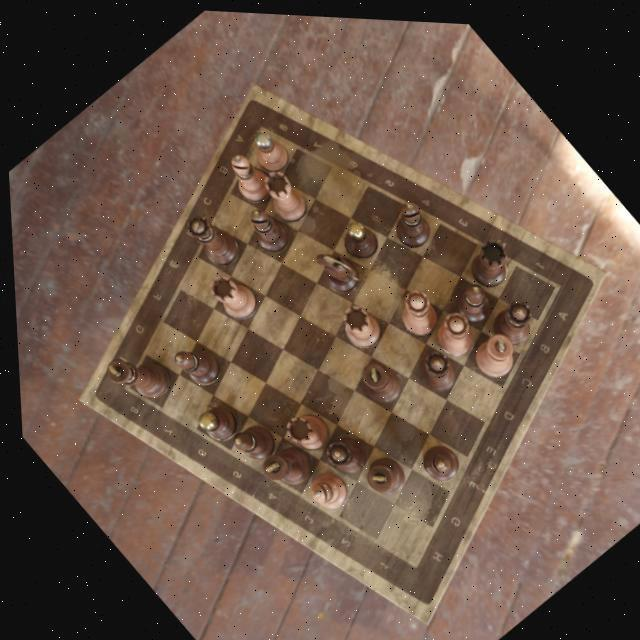chess-table-corners: (524, 257, 575, 309), (239, 110, 284, 154), (386, 540, 426, 580), (102, 367, 140, 406)
